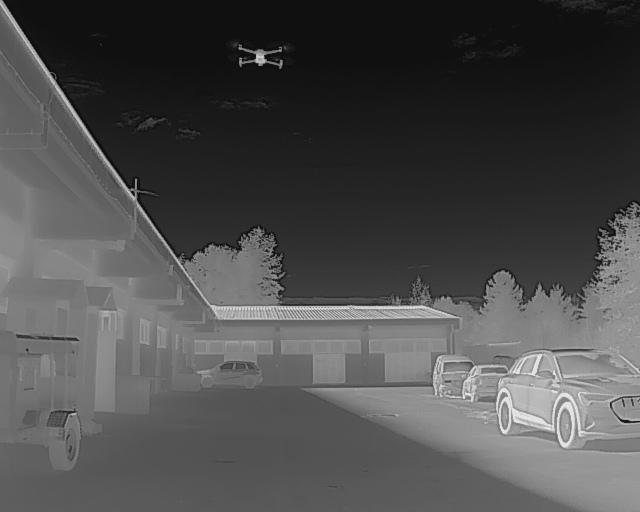drone: (223, 35, 297, 79)
